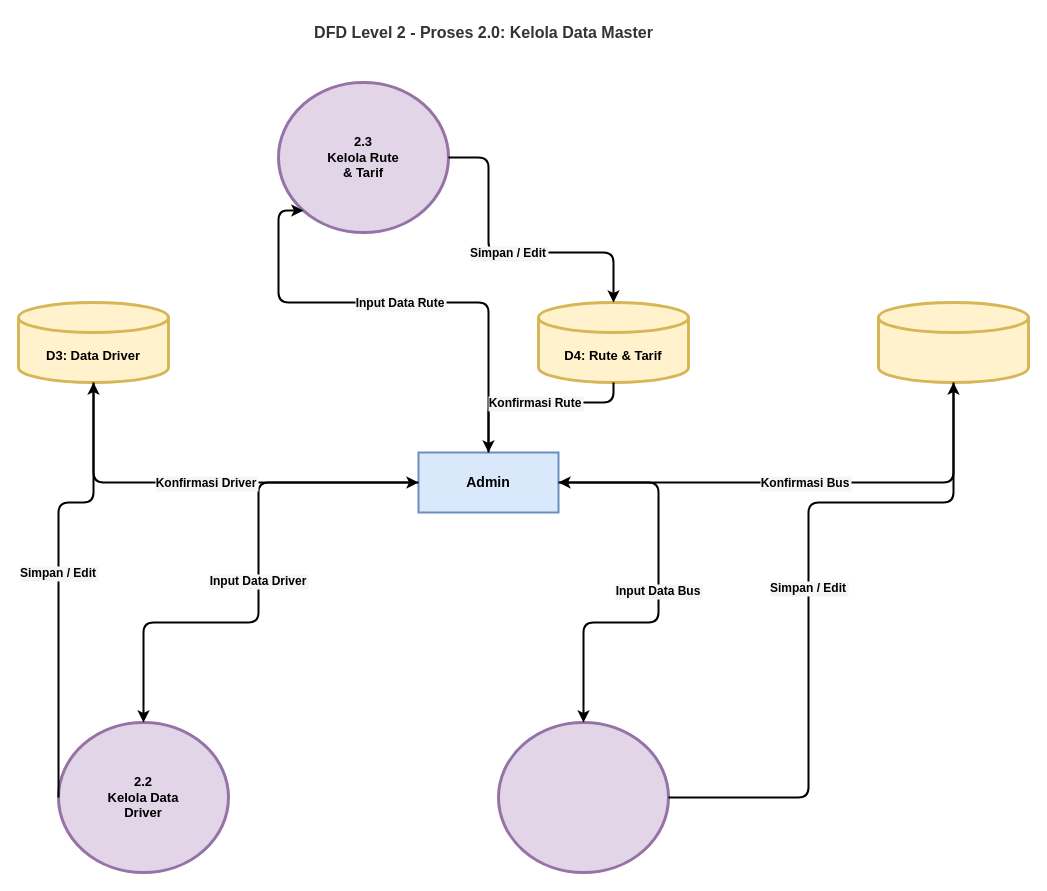
The diagram is 1047 pixels wide and 891 high, and some of its shapes have lost their labels. The shapes that lost their labels are listed below. From the top down, each one's centre as x and y in pixels, then its label:
At point (953, 342): "D2: Armada Bus".
At point (583, 797): "2.1 Kelola Data Armada Bus".
